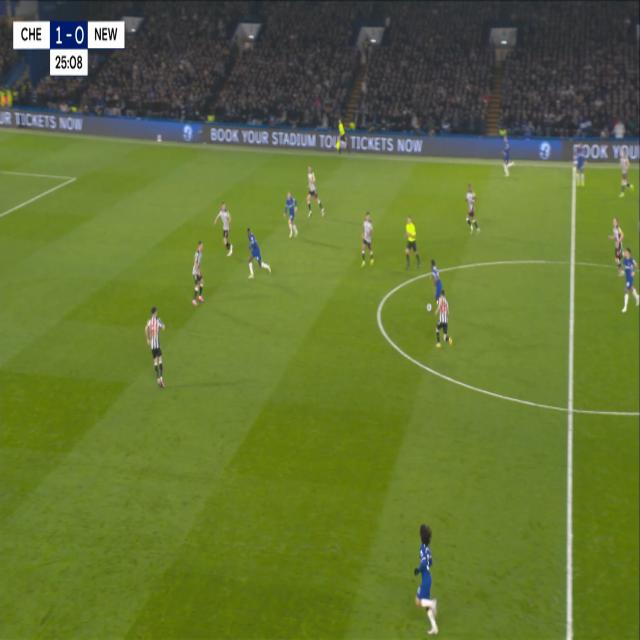Ball: (424, 298, 432, 316)
Chelsea: (410, 517, 442, 635), (242, 221, 272, 283), (620, 243, 640, 316), (283, 187, 298, 241), (428, 255, 446, 297)
New castle: (142, 300, 168, 393), (303, 160, 325, 225), (461, 176, 482, 243), (190, 234, 208, 310), (214, 198, 235, 262), (435, 288, 452, 352), (359, 207, 376, 270)
Refree: (403, 211, 421, 271)
